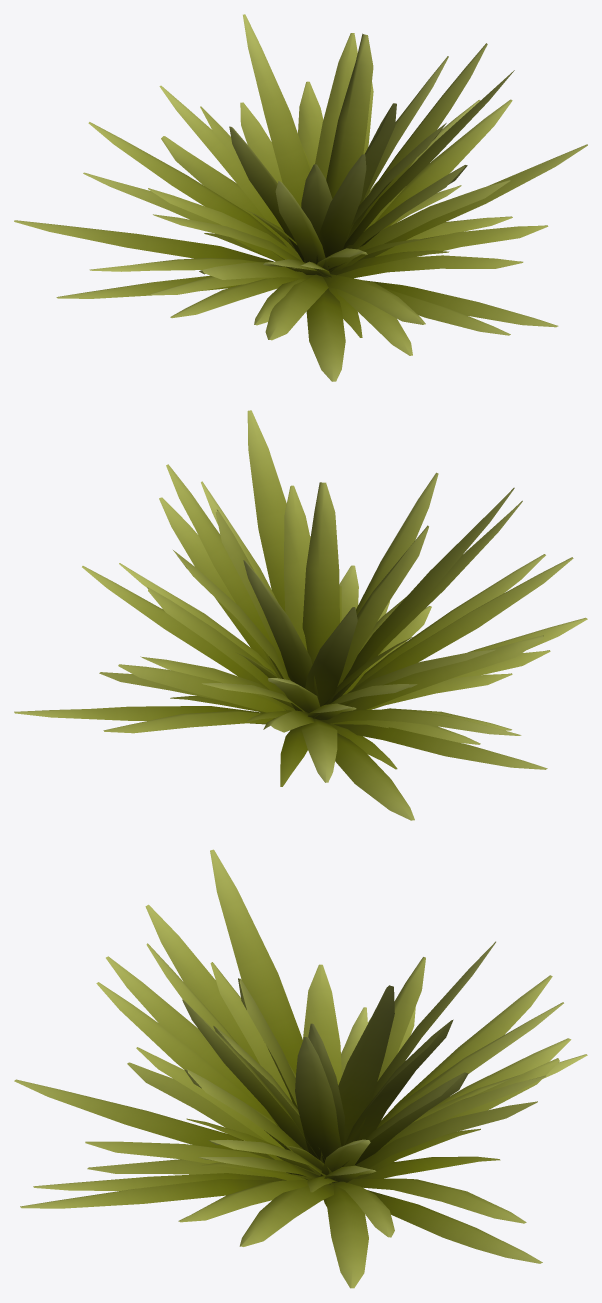
File: grass_desert.fbx
The picture shows the model from 3 angles, top to bottom: view 1: azimuth 30°, elevation 25°; view 2: azimuth 150°, elevation 25°; view 3: azimuth 270°, elevation 25°; orthographic projection. The views are drawn at different scales.
Visible parts, largest first — view 1: grass_desert; view 2: grass_desert; view 3: grass_desert.
Part boxes in pixels (left/top/right/bottom): grass_desert: left=14, top=14, right=587, bottom=381; grass_desert: left=14, top=410, right=587, bottom=820; grass_desert: left=14, top=849, right=587, bottom=1288.
Size of the model in its own units: 46.47 by 22.08 by 44.77.
1 material, 1 textured.
